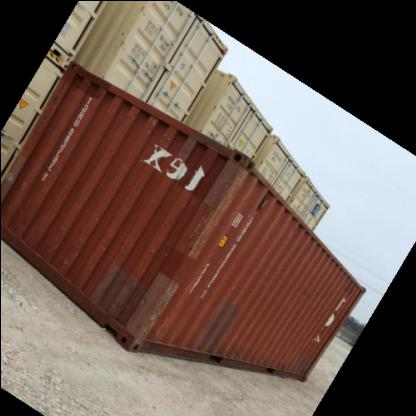Damage: (122, 275, 177, 336), (202, 157, 252, 209), (173, 209, 217, 251), (48, 253, 74, 273), (154, 126, 176, 146)
